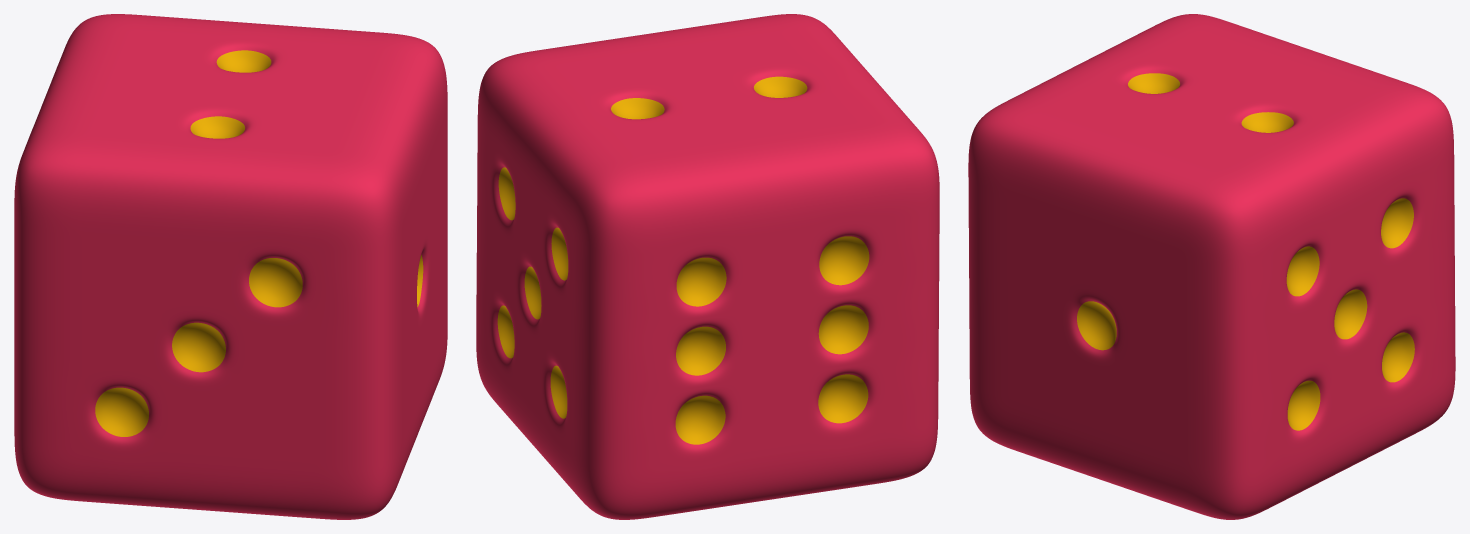
Rendered from pinky-dice.fbx.
The picture shows the model from 3 angles, left to right: view 1: azimuth 30°, elevation 25°; view 2: azimuth 150°, elevation 25°; view 3: azimuth 270°, elevation 25°; orthographic projection. The views are drawn at different scales.
Visible parts, largest first — view 1: Cube003; view 2: Cube003; view 3: Cube003.
Boxes of the visible parts, x1,y1,x2,y2 form: Cube003: (14, 14, 447, 519); Cube003: (476, 14, 939, 519); Cube003: (968, 14, 1455, 519).
Size of the model in its own units: 263 by 201 by 264.
